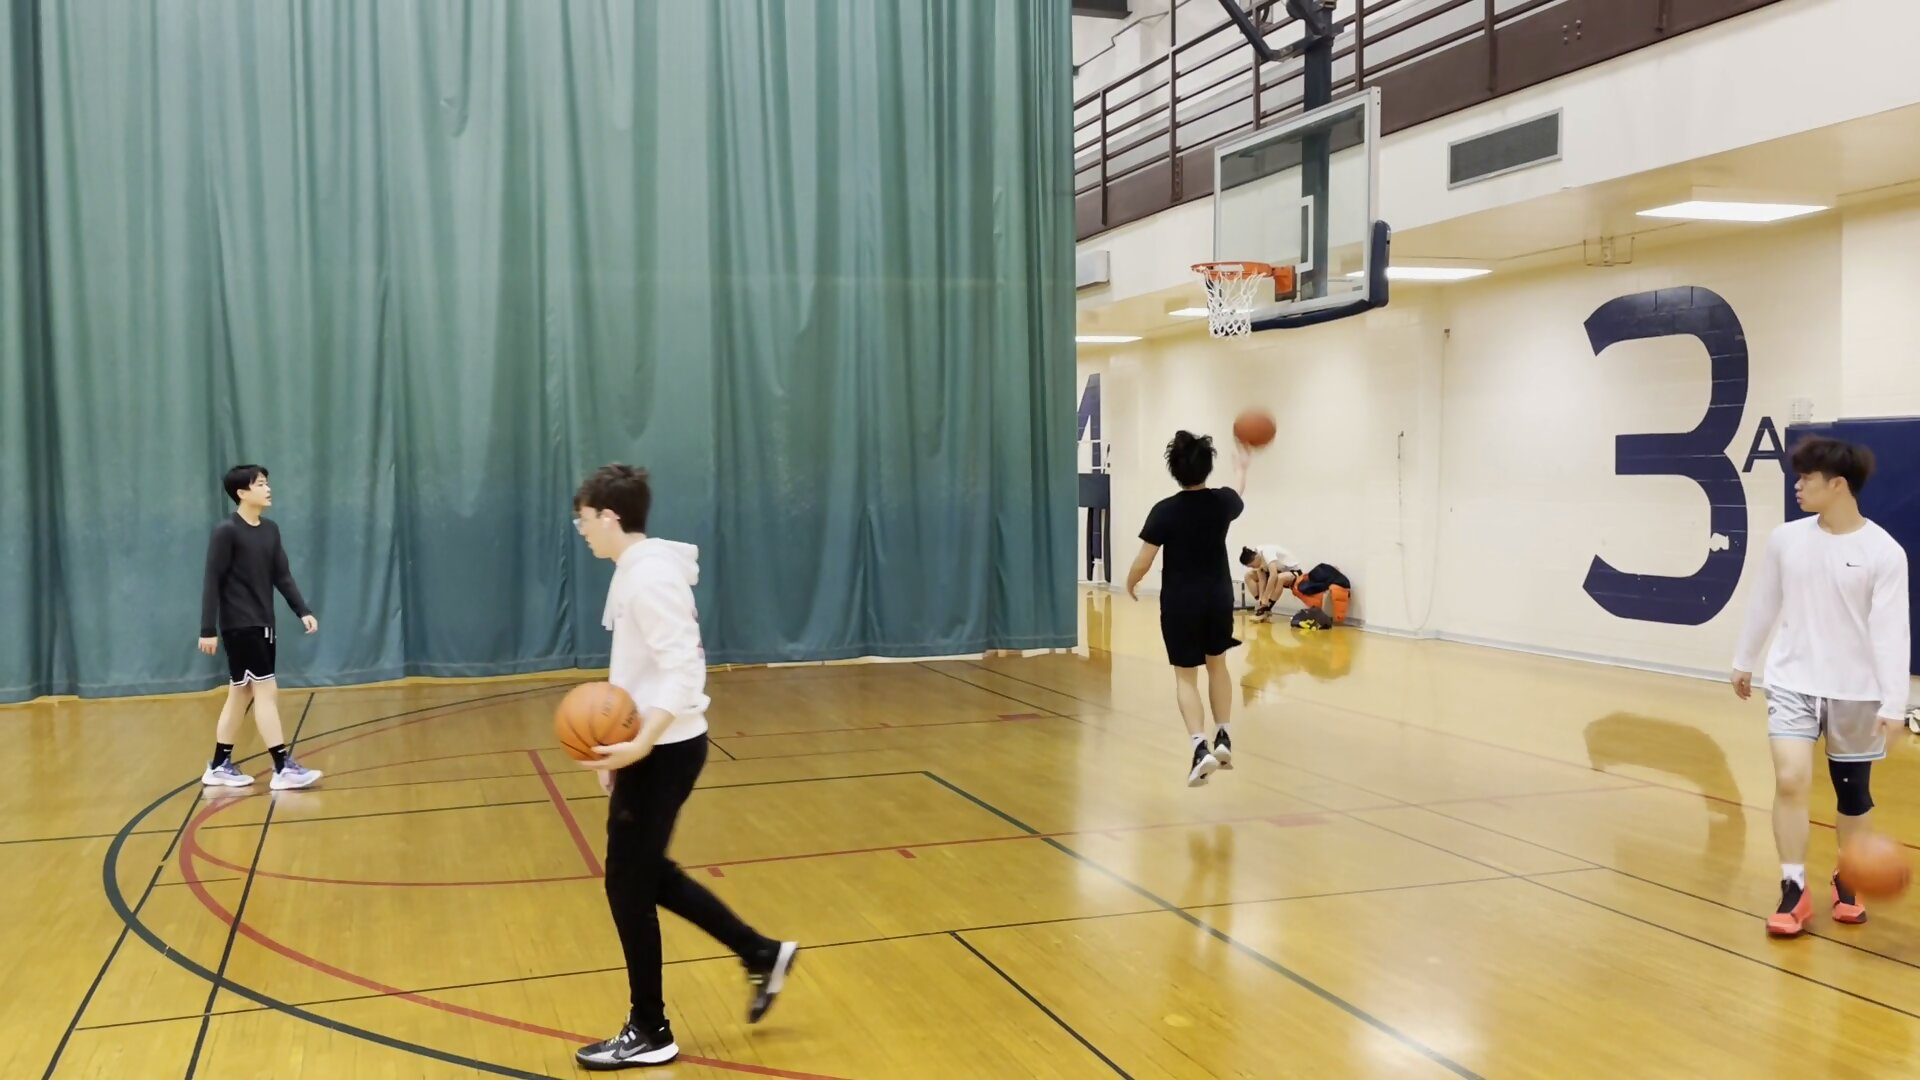ball: (551, 678, 645, 777), (1835, 825, 1906, 910), (1230, 405, 1286, 454)
net: (1200, 319, 1262, 343)
player: (560, 455, 801, 1068), (1738, 434, 1905, 943), (1127, 424, 1250, 793), (198, 463, 325, 800), (1241, 543, 1301, 624)
rim: (1186, 253, 1278, 281)
